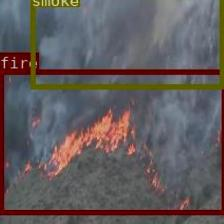fire: (0, 69, 224, 213)
smoke: (30, 0, 223, 88)
